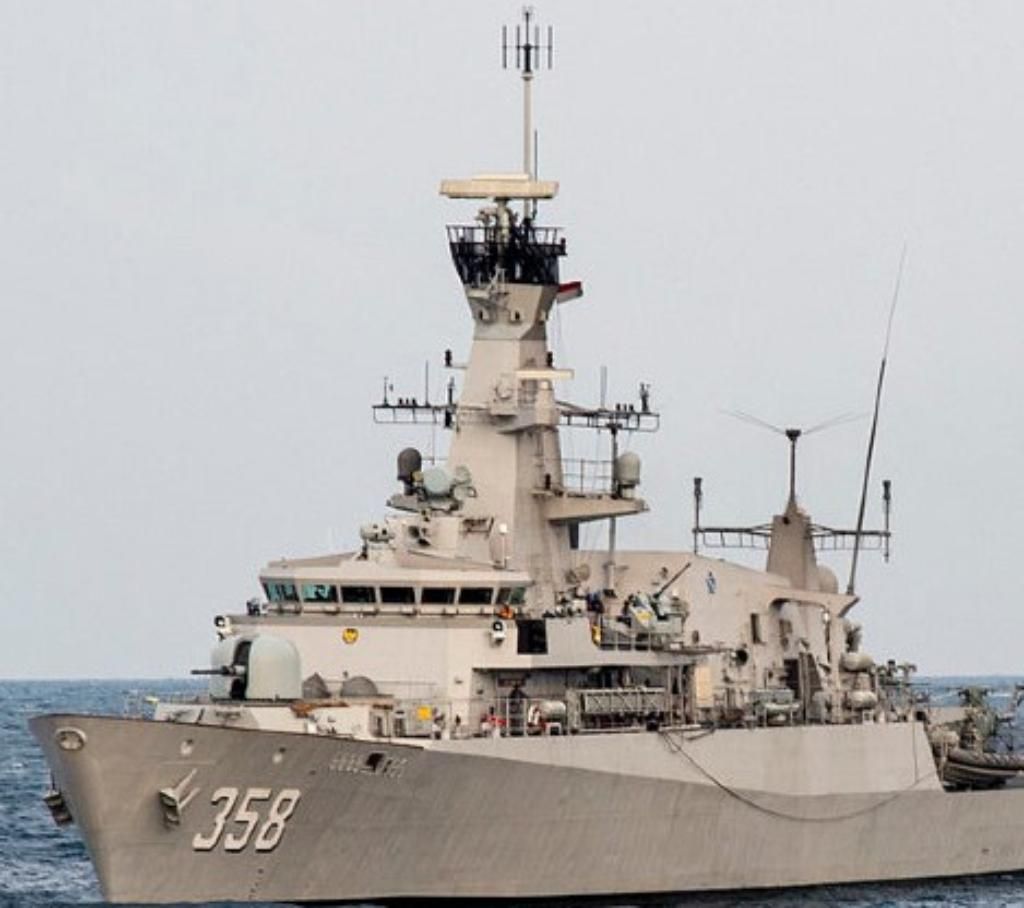Warship: (32, 0, 1024, 908)
